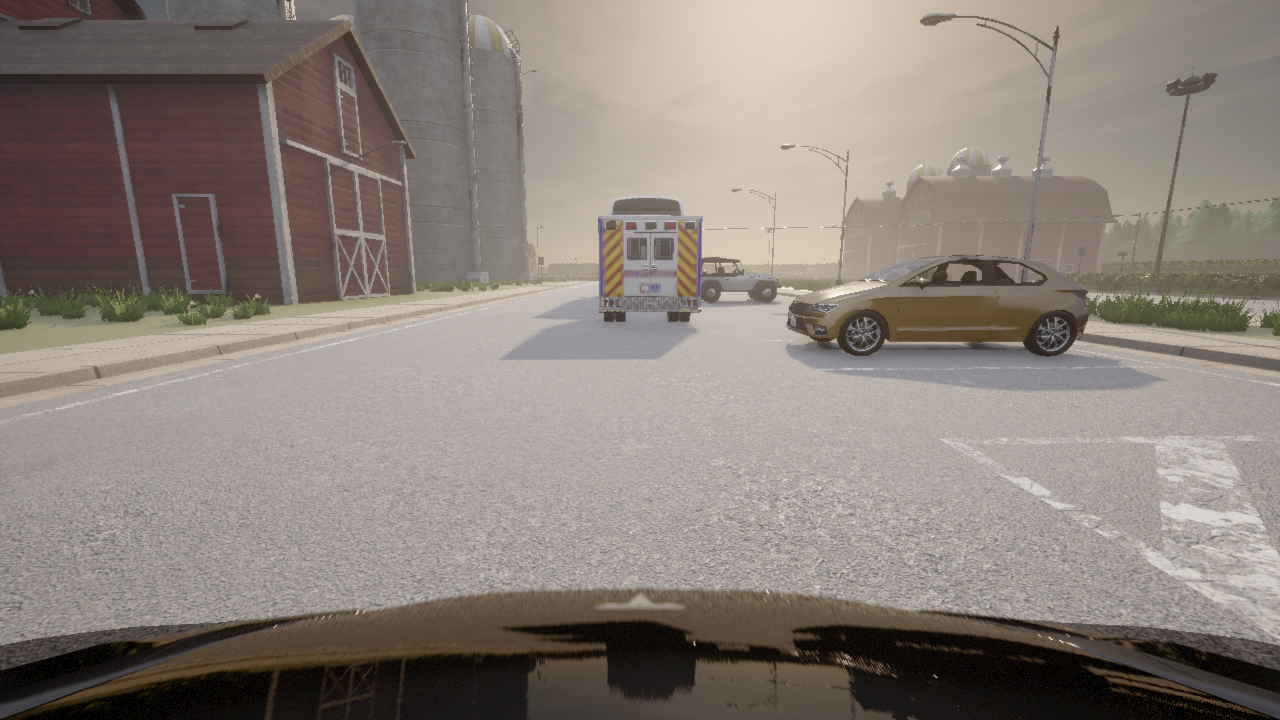cyclist: (0, 588, 1279, 719), (786, 255, 1087, 355), (598, 215, 702, 321), (701, 257, 781, 302), (609, 195, 683, 214)
